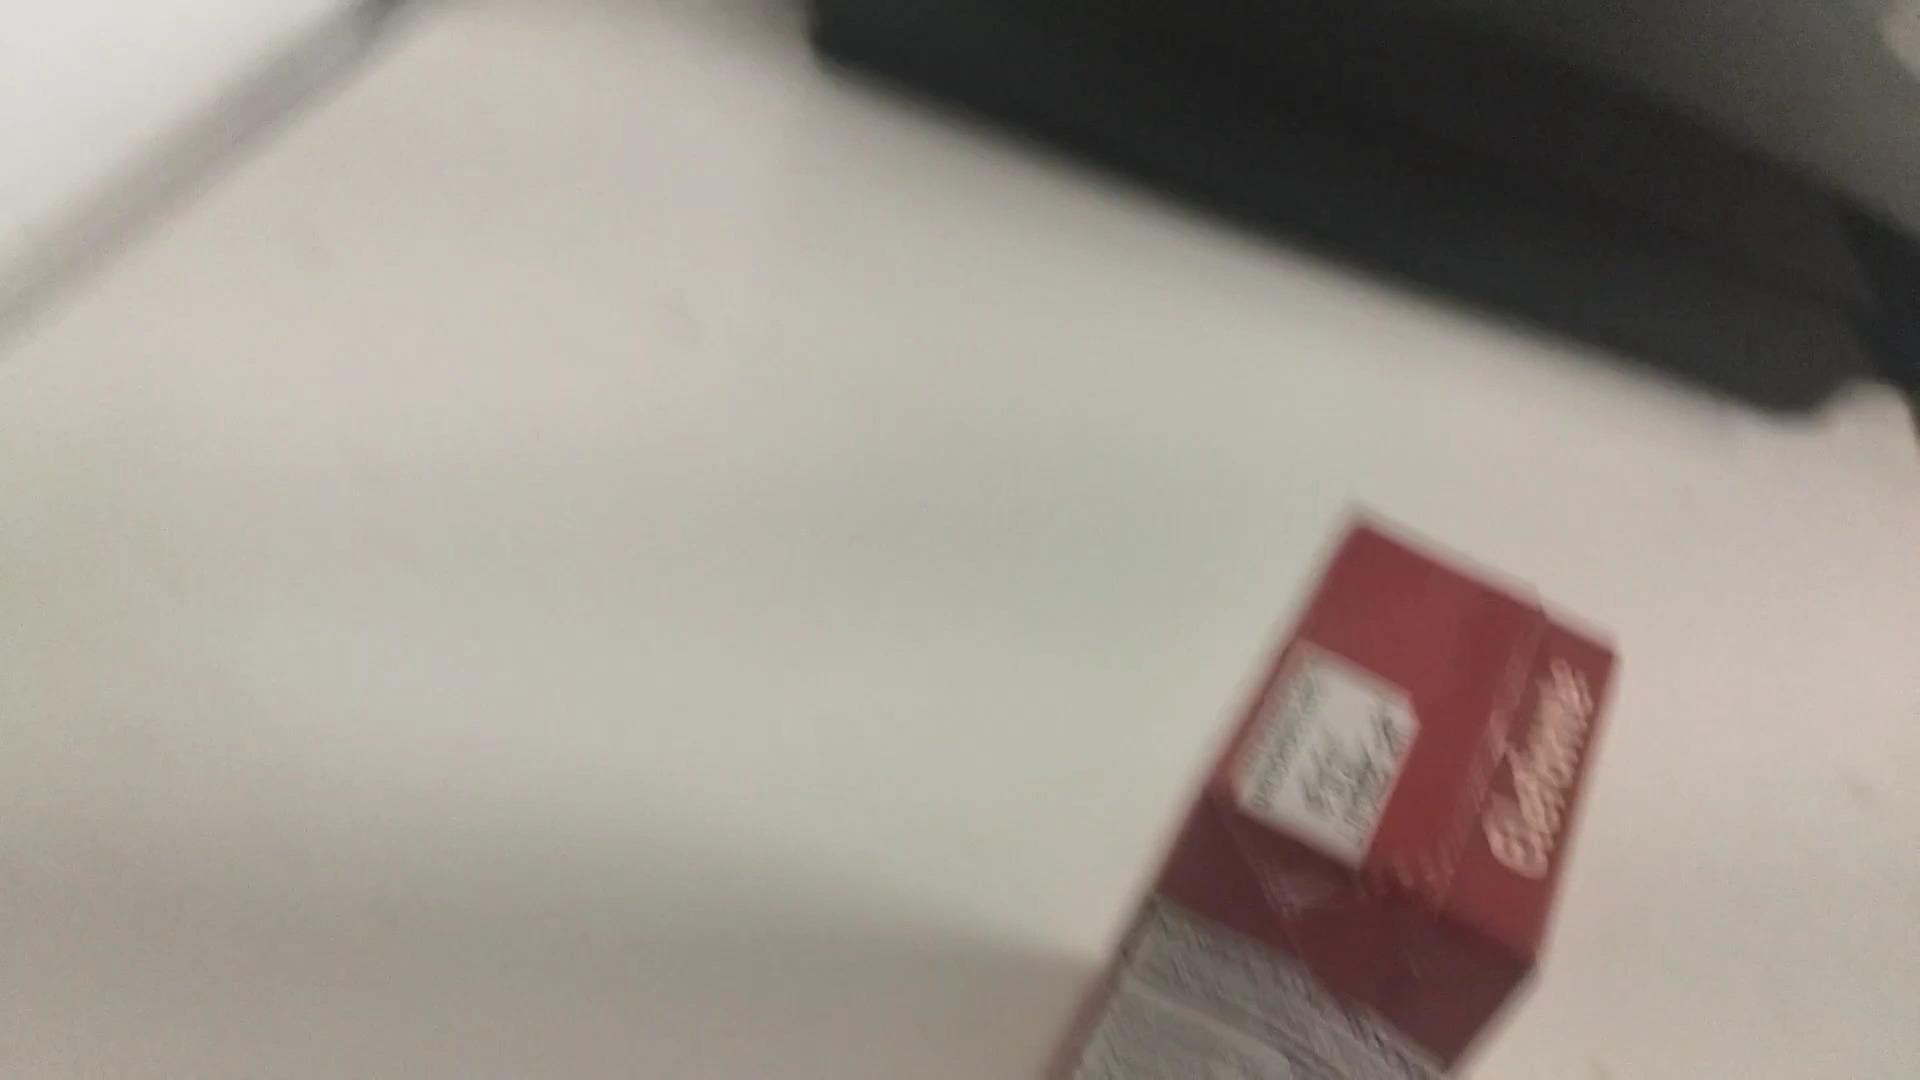tomate: (907, 461, 1763, 1077)
